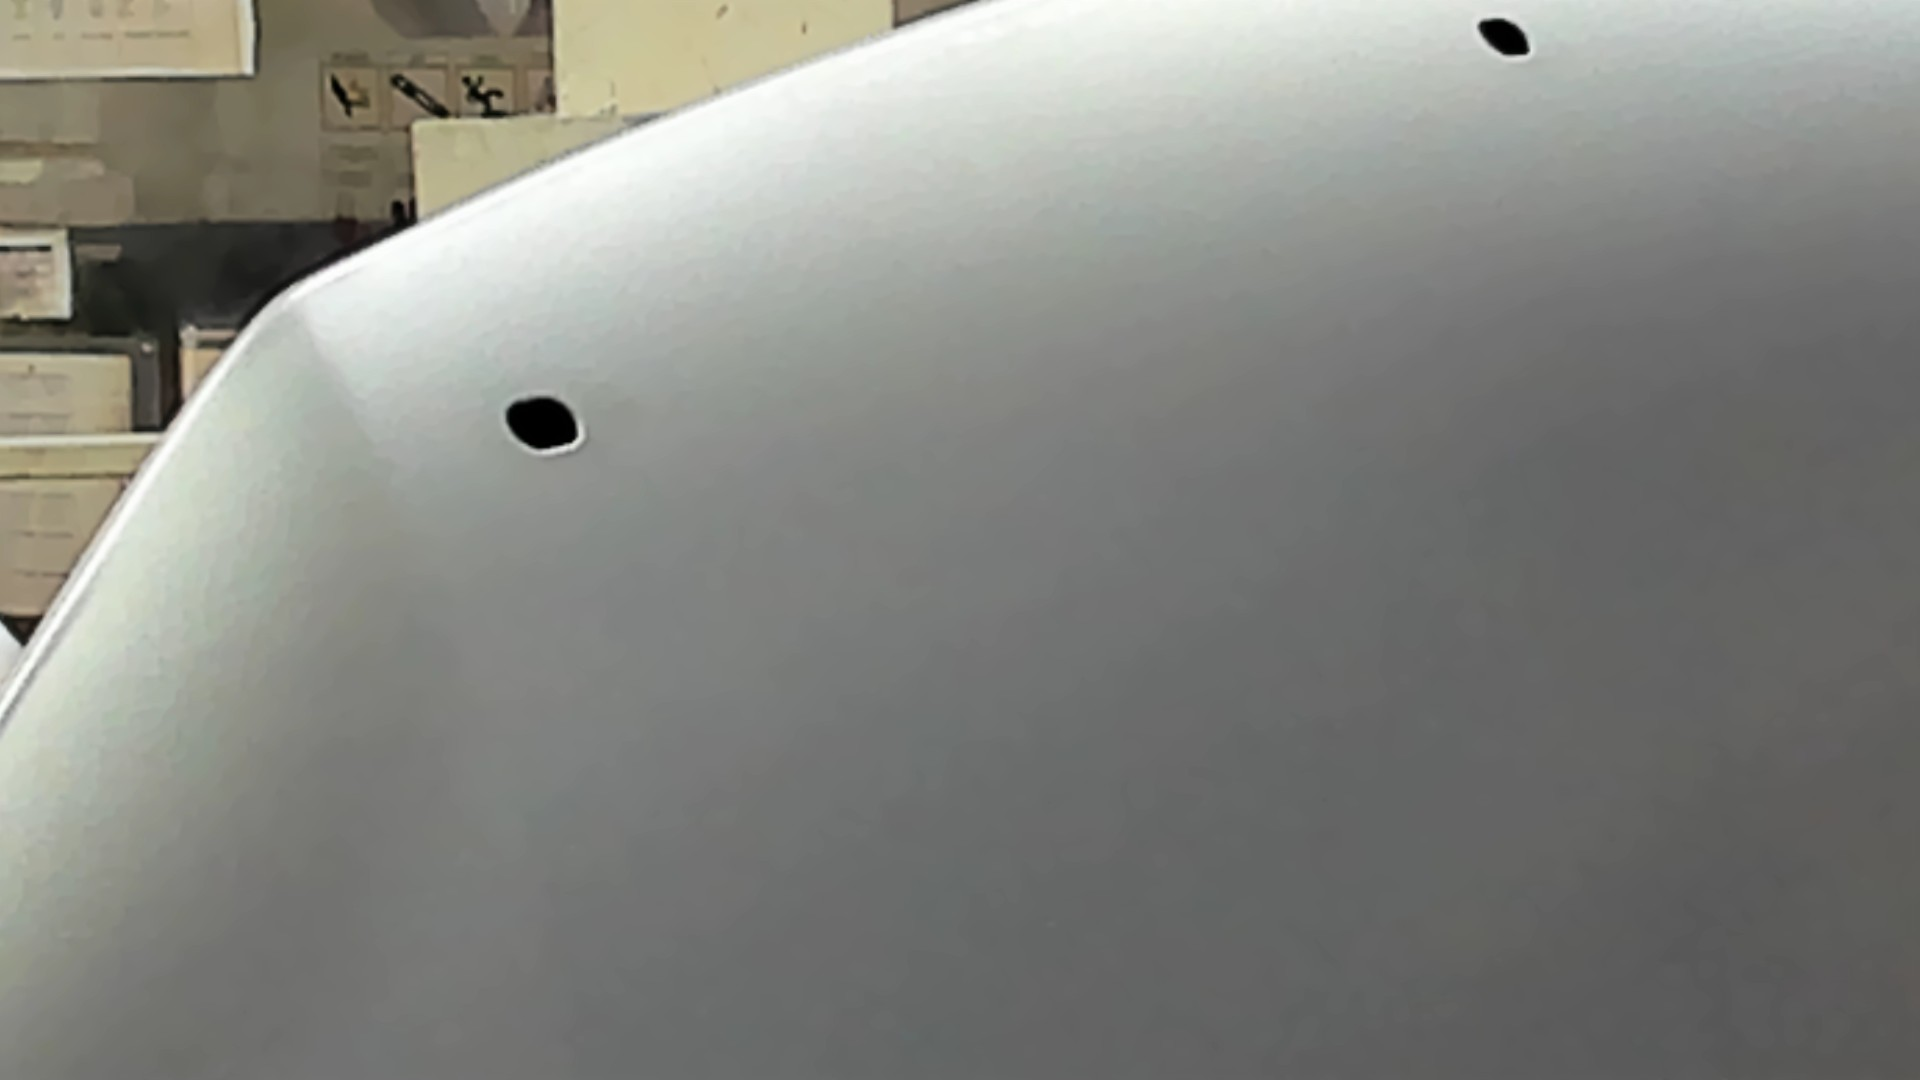amorfo: (500, 392, 591, 460), (1470, 11, 1536, 63)
